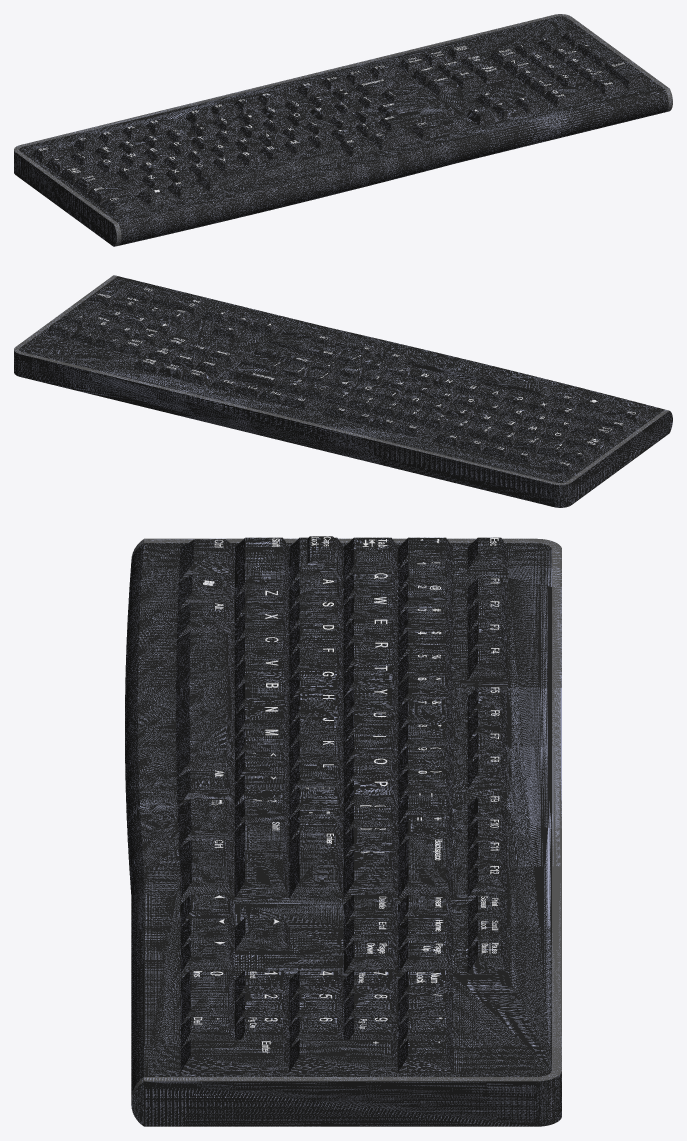
Rendered from keyboard1.dae.
The picture shows the model from 3 angles, top to bottom: view 1: azimuth 30°, elevation 25°; view 2: azimuth 150°, elevation 25°; view 3: azimuth 270°, elevation 25°; orthographic projection. The views are drawn at different scales.
Parts seen in each view (by area): view 1: SketchUp (×12); view 2: SketchUp (×12); view 3: SketchUp (×12).
Boxes of the visible parts, x1,y1,x2,y2 form: SketchUp (×12): [14, 14, 672, 246]; SketchUp (×12): [14, 275, 672, 507]; SketchUp (×12): [125, 537, 561, 1126].
Bounding box in the file's own units: 148 × 50.47 × 7.97.
